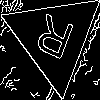R: (29, 13, 77, 69)
